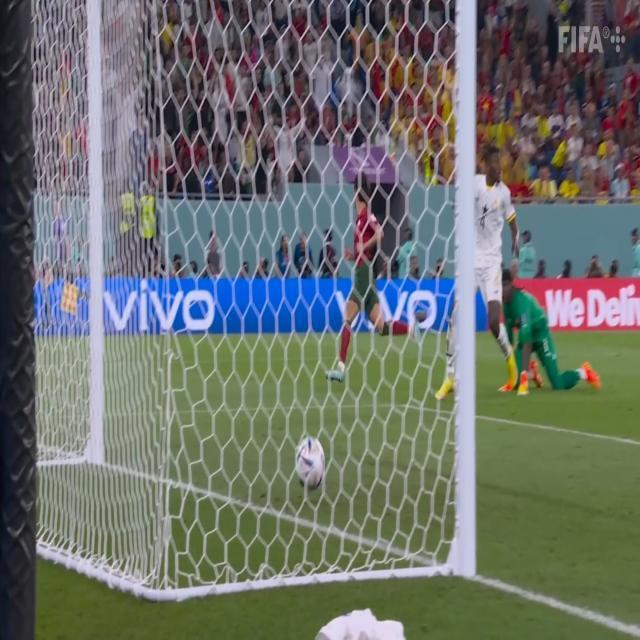football: (275, 433, 344, 492)
